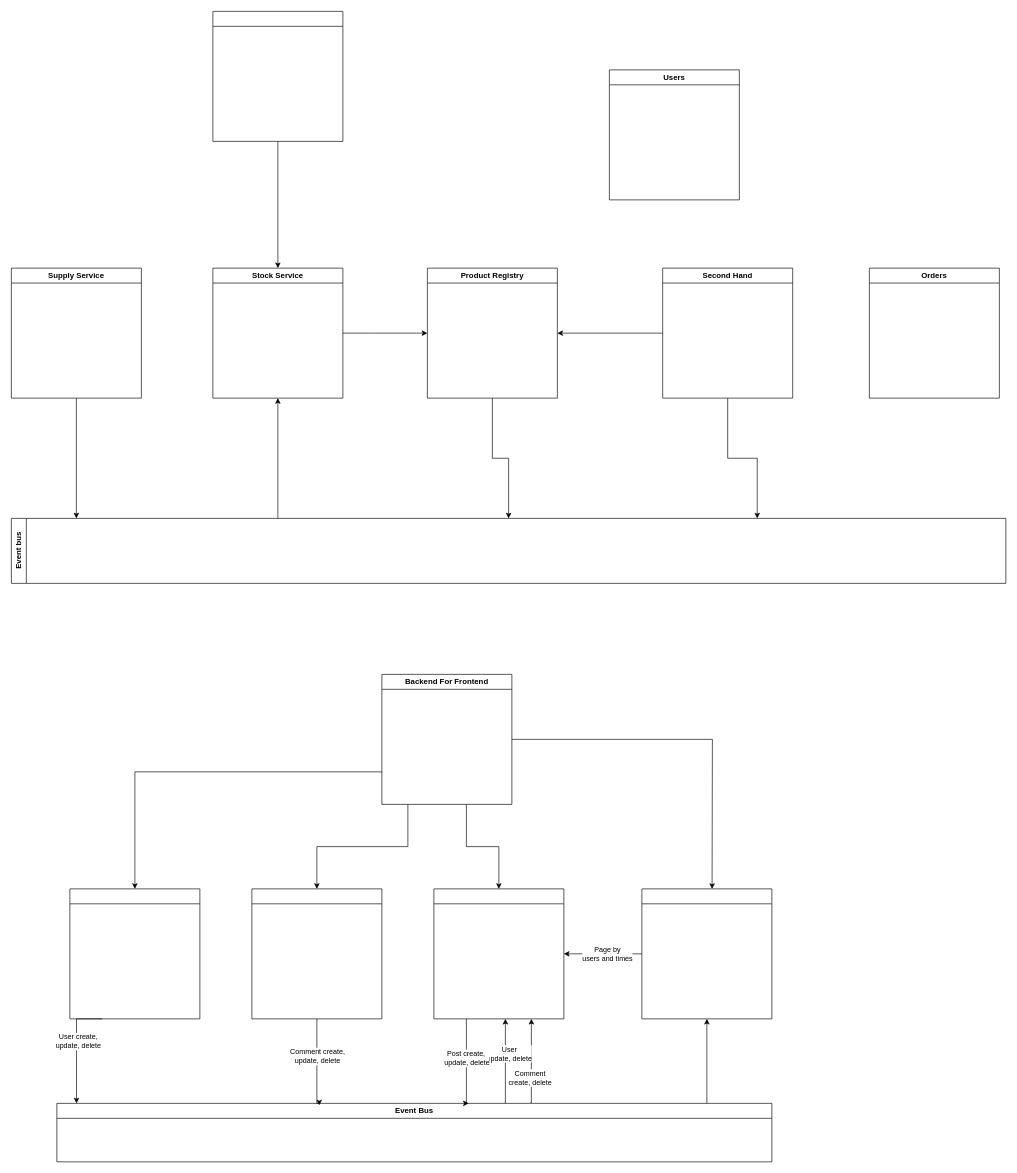
The diagram is 1017 pixels wide and 1173 high, and some of its shapes have lost their labels. Here are the shapes that lost their labels. From the top down, the box of each, then its label:
(212, 11, 343, 141): Shop
(69, 888, 200, 1019): User Service
(251, 888, 382, 1019): Comment Service
(433, 888, 564, 1019): Post Service
(641, 888, 772, 1019): Feed Service
